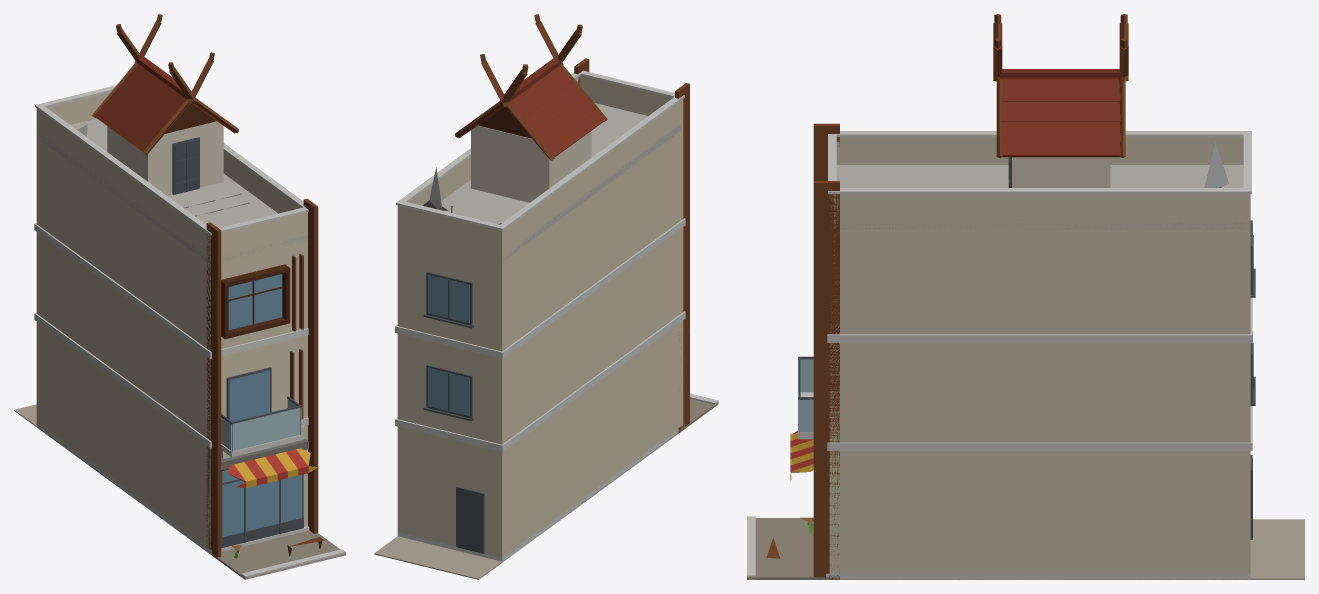
File: bay1_mid2.glb
The picture shows the model from 3 angles, left to right: view 1: azimuth 30°, elevation 25°; view 2: azimuth 150°, elevation 25°; view 3: azimuth 270°, elevation 25°; orthographic projection. The views are drawn at different scales.
Visible parts, largest first — view 1: body; view 2: body; view 3: body.
Boxes of the visible parts, bbox=[...] form: body: bbox=[14, 14, 345, 579]; body: bbox=[374, 14, 718, 579]; body: bbox=[747, 14, 1304, 579].
Bounding box in the file's own units: 4.12 × 16.85 × 15.9.
